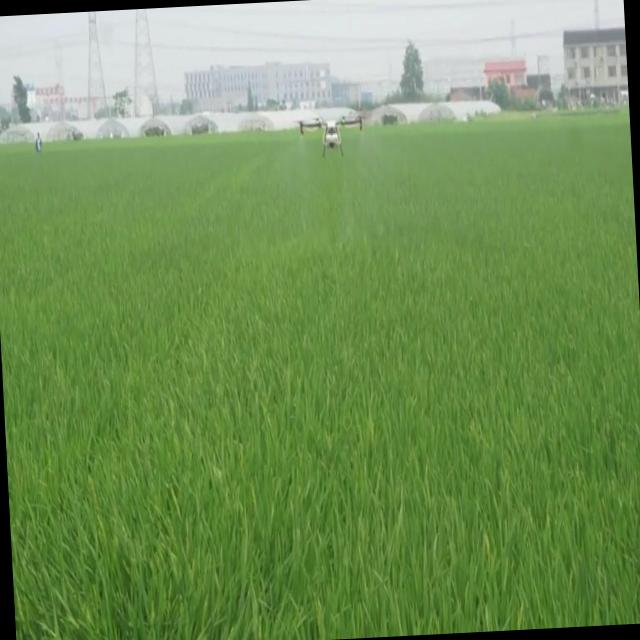drone: (298, 112, 366, 160)
